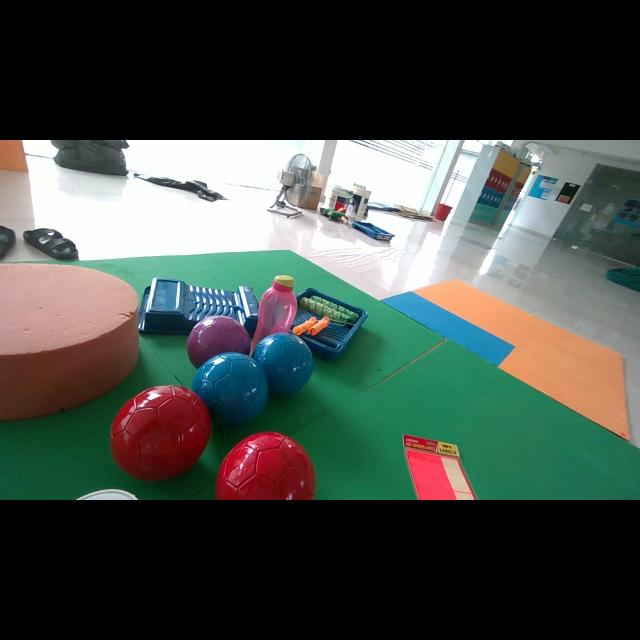B: (191, 352, 269, 426), (252, 332, 314, 395)
P: (186, 315, 251, 368)
R: (110, 385, 211, 480), (215, 432, 316, 500)
